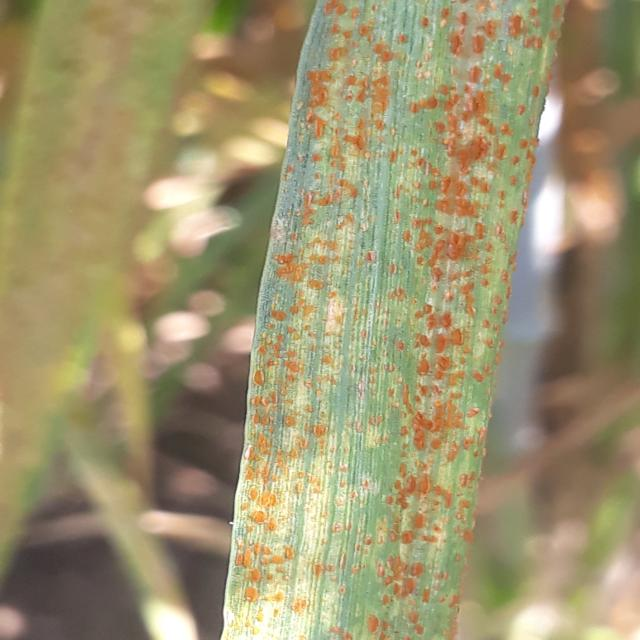orang_rust: (209, 0, 573, 640)
